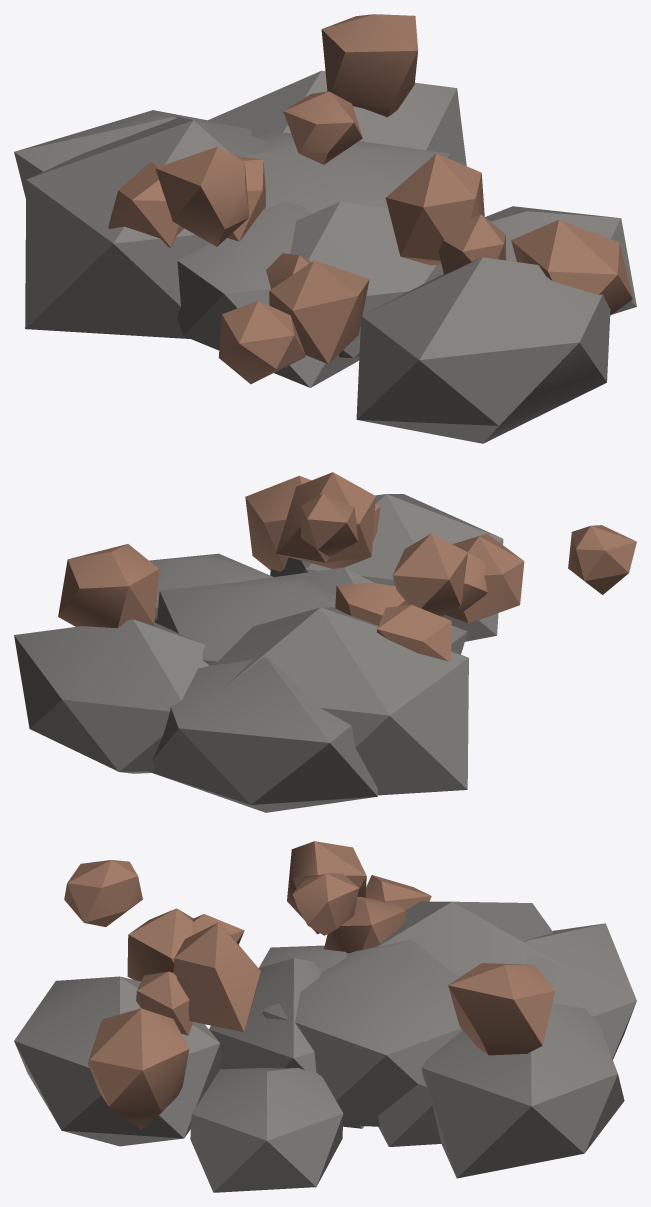
The model's file is iron_mine.glb.
3 renders of one model, top to bottom at view 1: azimuth 30°, elevation 25°; view 2: azimuth 150°, elevation 25°; view 3: azimuth 270°, elevation 25°, orthographic. The views are drawn at different scales.
Visible parts, largest first — view 1: body; view 2: body; view 3: body.
Part boxes in pixels (x1,y1,x2,y2): body: [14, 14, 636, 443]; body: [14, 472, 636, 812]; body: [14, 841, 636, 1192].
Bounding box in the file's own units: 5.03 × 2.72 × 6.02.
